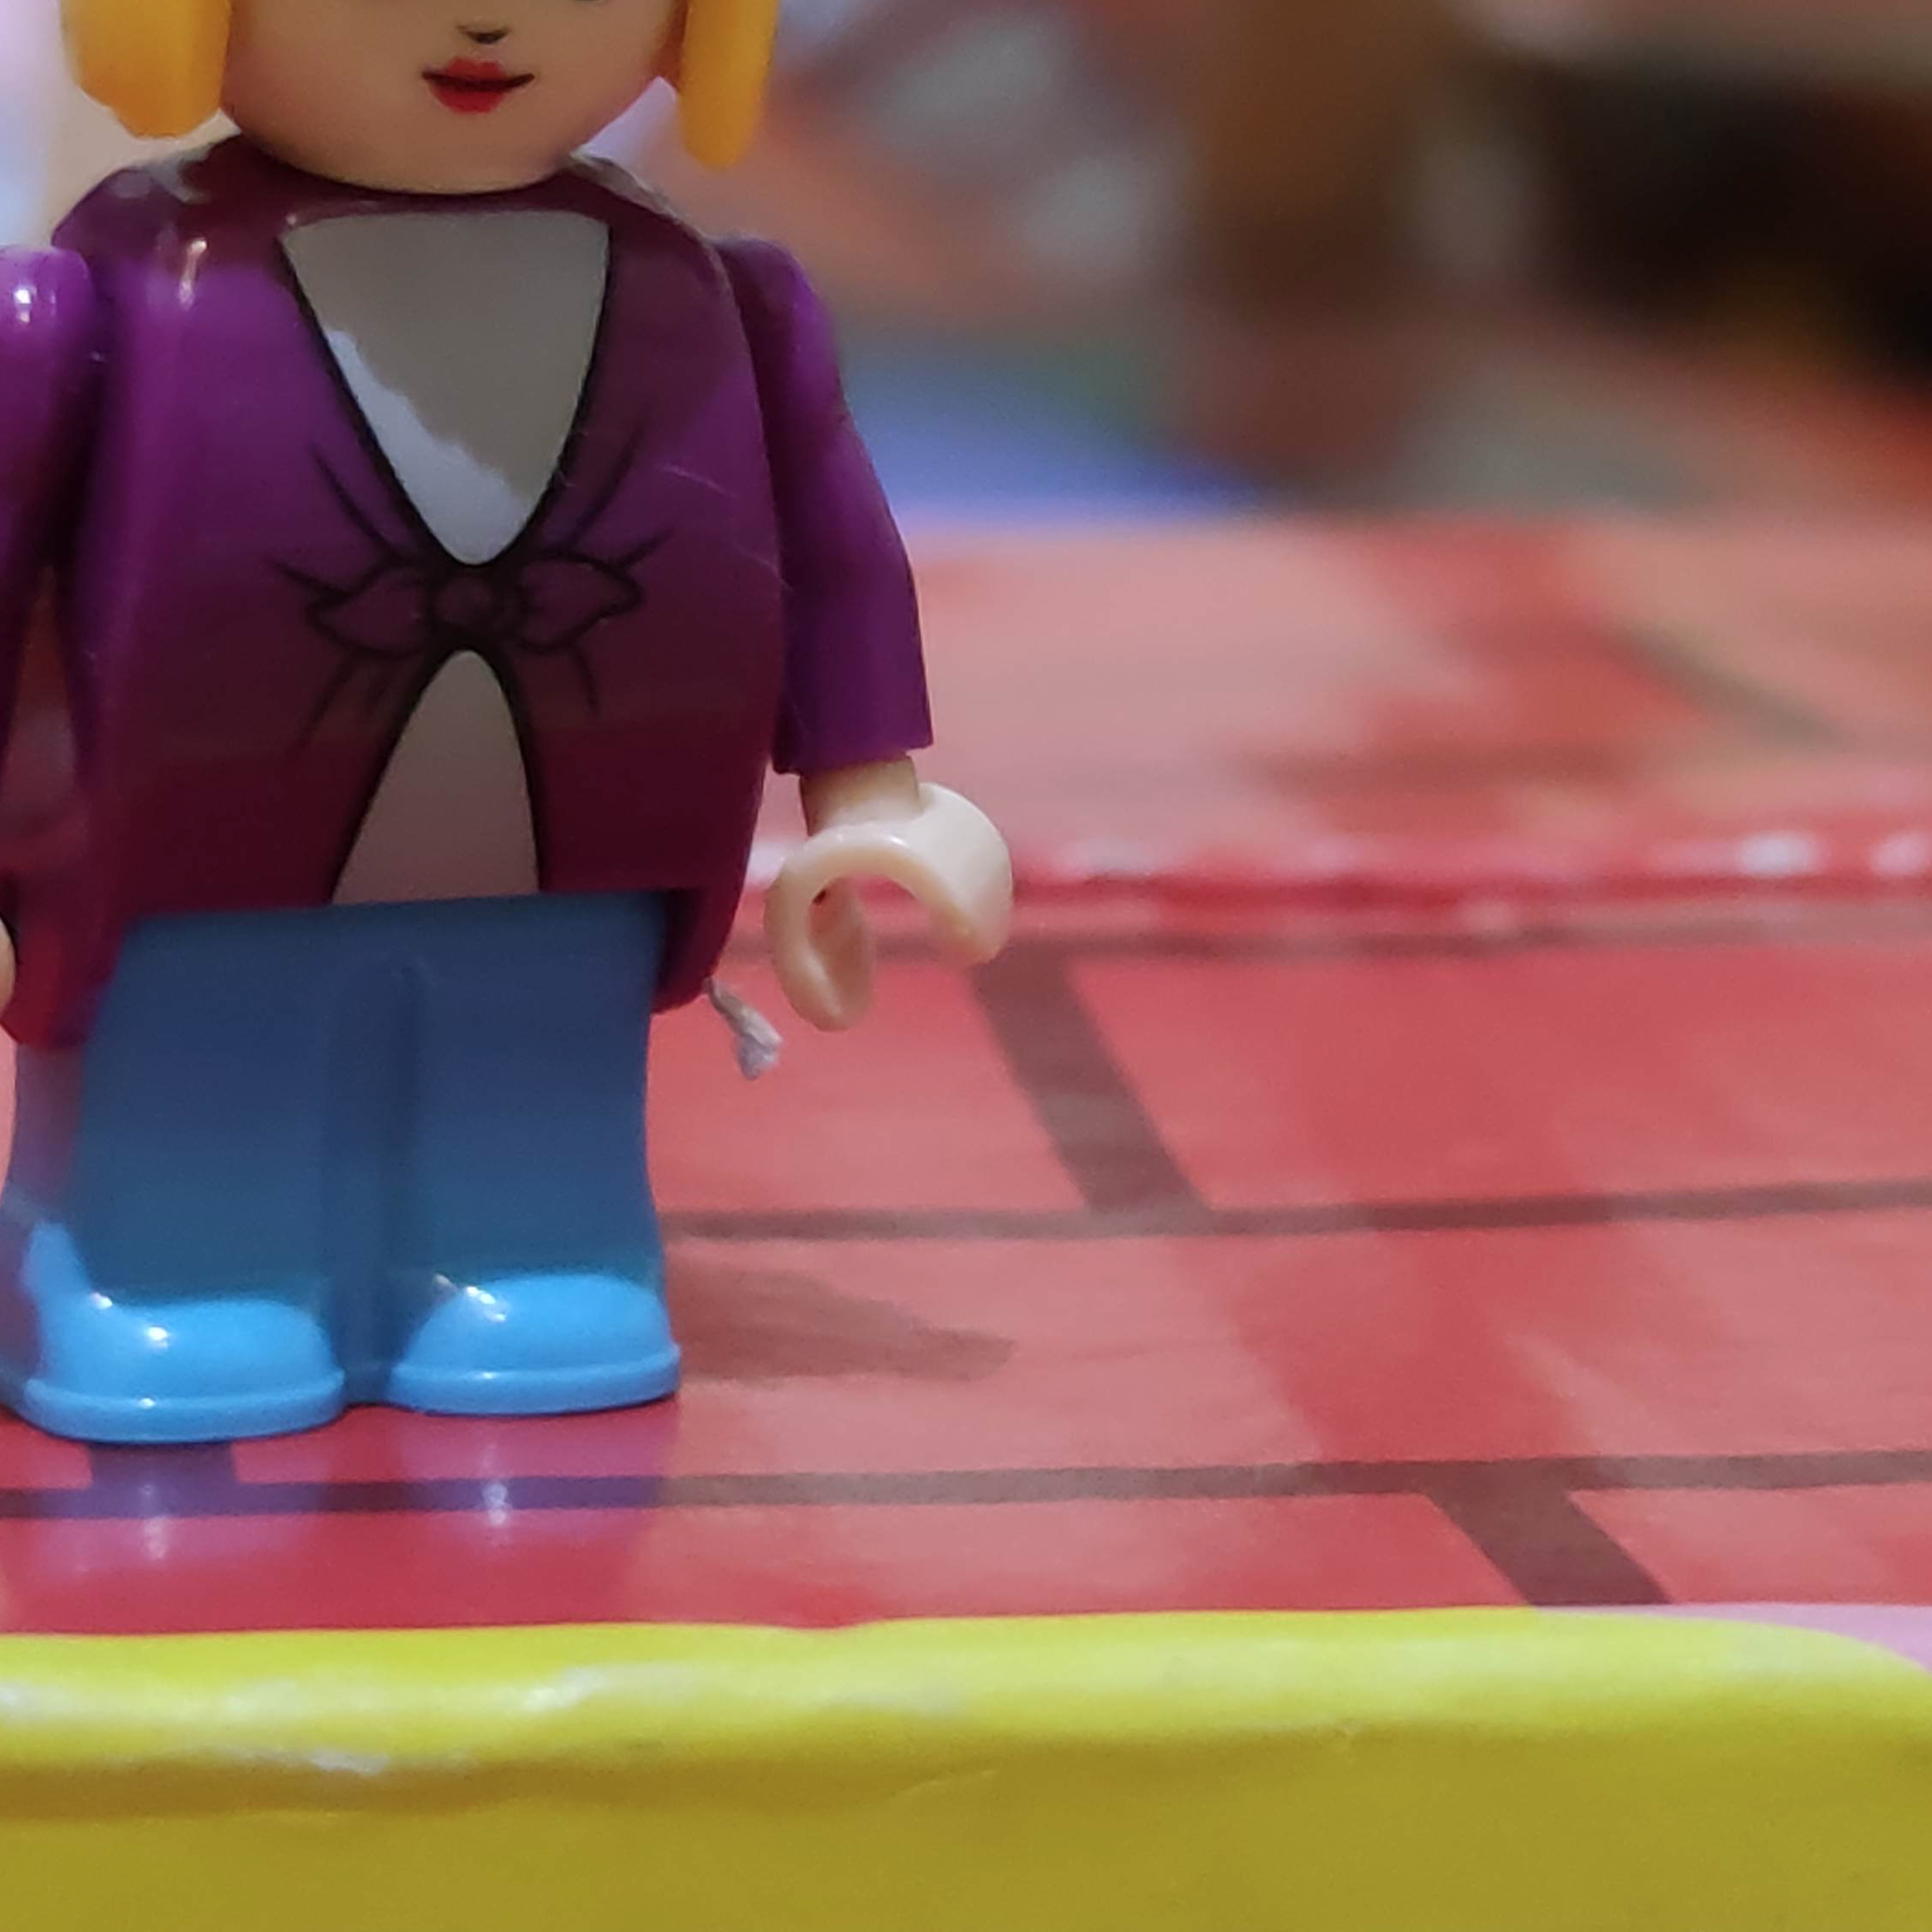lego: (25, 0, 1019, 1449)
